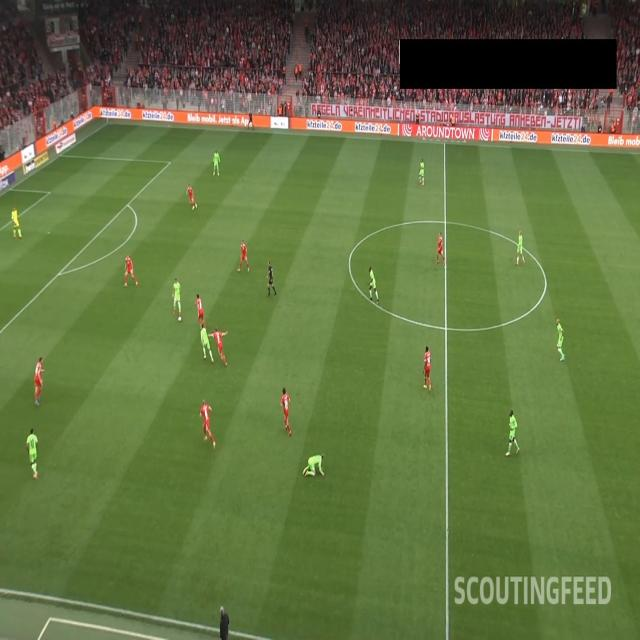ball: (178, 315, 182, 323)
